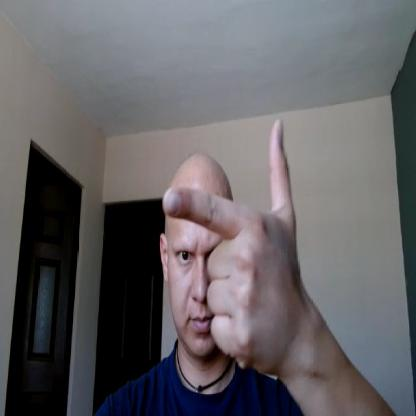G: (163, 115, 300, 375)
